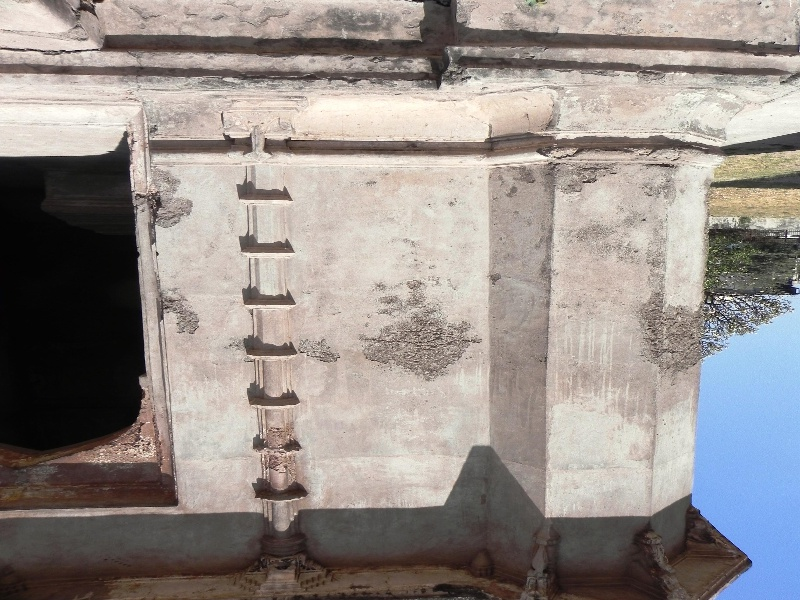Spalling: (360, 284, 483, 383), (642, 267, 702, 385), (535, 143, 685, 171), (145, 168, 200, 240), (156, 271, 199, 340)
